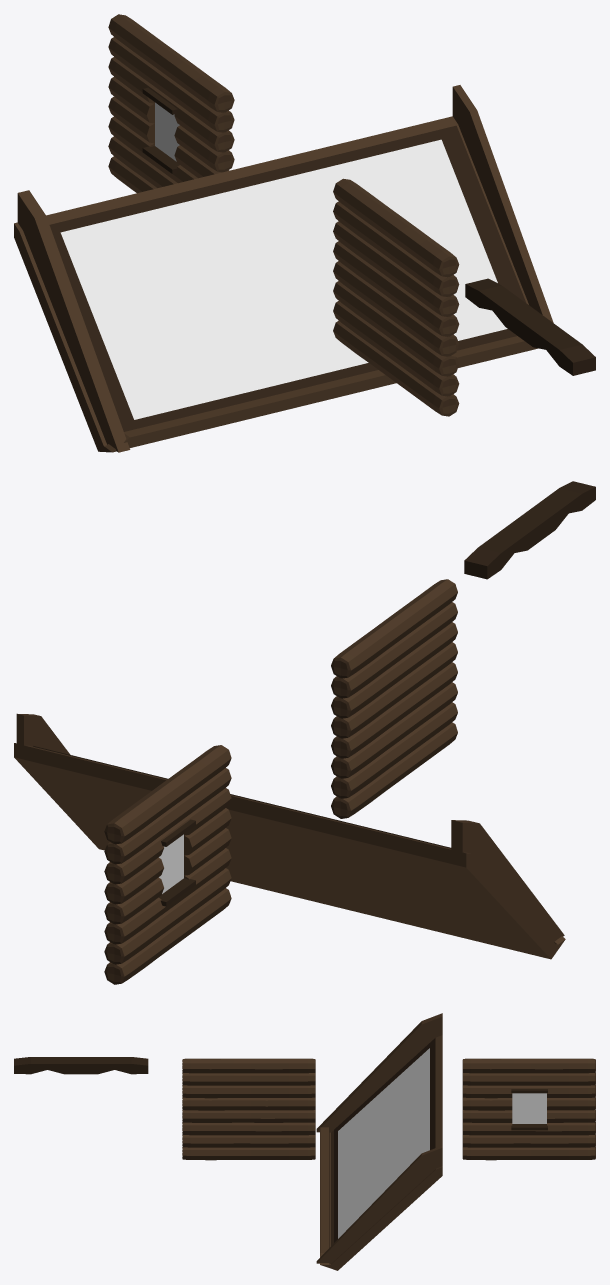
Rendered from BuildingsModular.fbx.
The picture shows the model from 3 angles, top to bottom: view 1: azimuth 30°, elevation 25°; view 2: azimuth 150°, elevation 25°; view 3: azimuth 270°, elevation 25°; orthographic projection. The views are drawn at different scales.
Parts seen in each view (by area): view 1: Cube.002, Cube.001, Cube, Cube.005; view 2: Cube.002, Cube, Cube.001, Cube.005; view 3: Cube.002, Cube.001, Cube, Cube.005.
Part boxes in pixels (left/top/right/bottom): Cube.002: left=14, top=85, right=553, bottom=452; Cube.001: left=333, top=178, right=459, bottom=416; Cube: left=108, top=14, right=234, bottom=193; Cube.005: left=465, top=278, right=595, bottom=375; Cube.002: left=14, top=713, right=565, bottom=959; Cube: left=104, top=745, right=231, bottom=984; Cube.001: left=331, top=579, right=457, bottom=818; Cube.005: left=464, top=481, right=595, bottom=579; Cube.002: left=316, top=1013, right=442, bottom=1270; Cube.001: left=182, top=1058, right=315, bottom=1160; Cube: left=462, top=1058, right=595, bottom=1160; Cube.005: left=14, top=1057, right=148, bottom=1074.
Size of the model in its own units: 3915 by 1929 by 7050.
